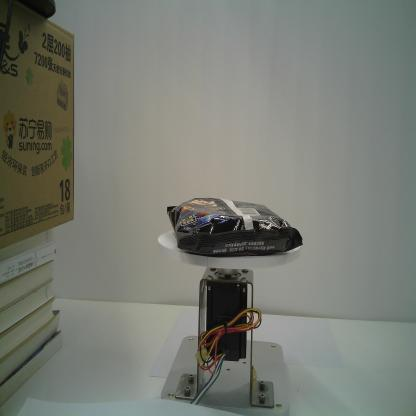Instant Noodles: (166, 197, 304, 259)
